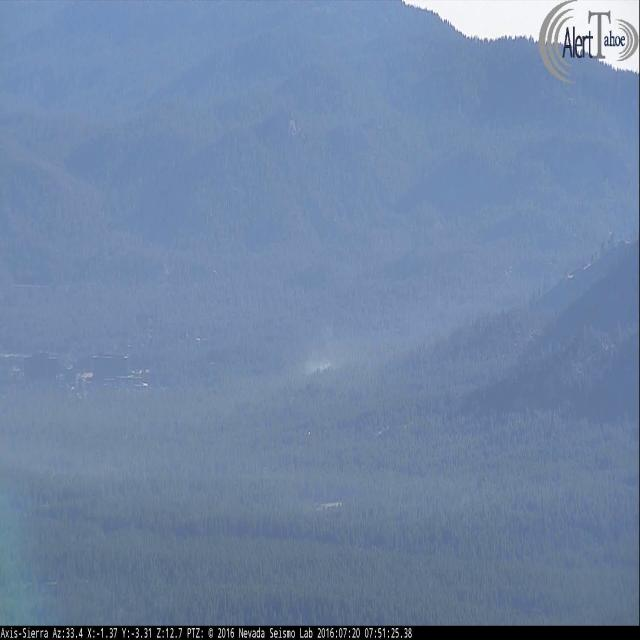smoke: (298, 312, 347, 390)
